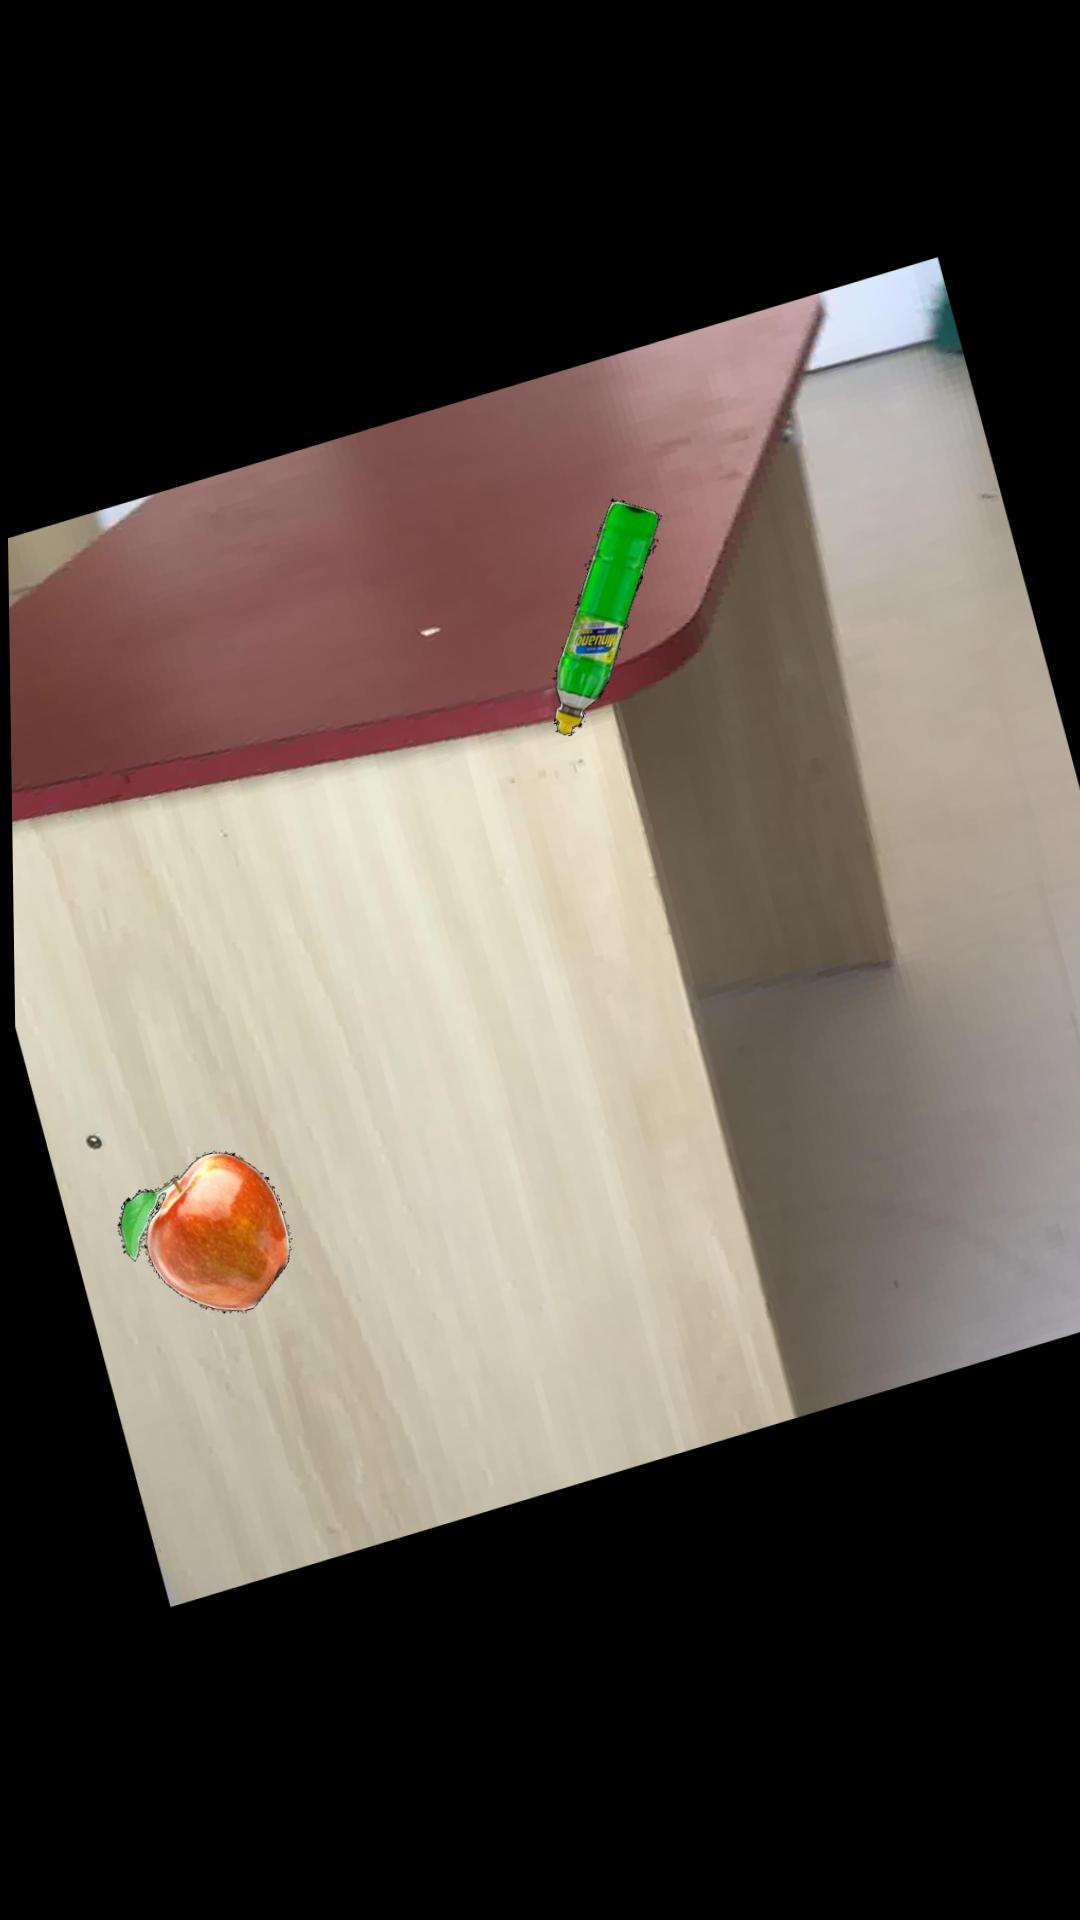apple: (115, 1155, 287, 1316)
cleaner: (553, 506, 659, 744)
